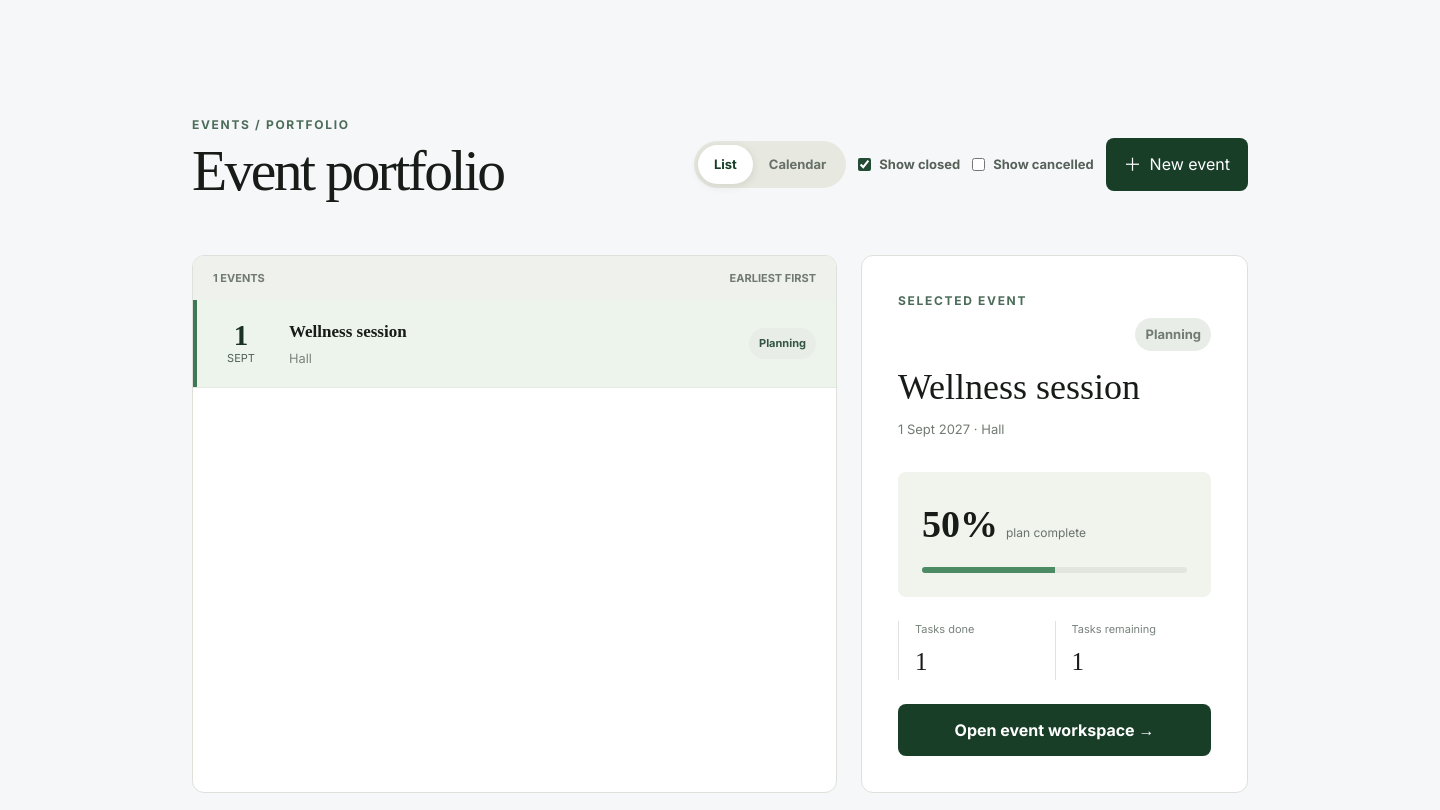
it: API-backed organizer events › shows Event and Subtask completion in the workspace
Click the button "Open event workspace →".
click(1054, 730)  # box top-left (898, 704), bottom-right (1211, 756)
(page scrolled)
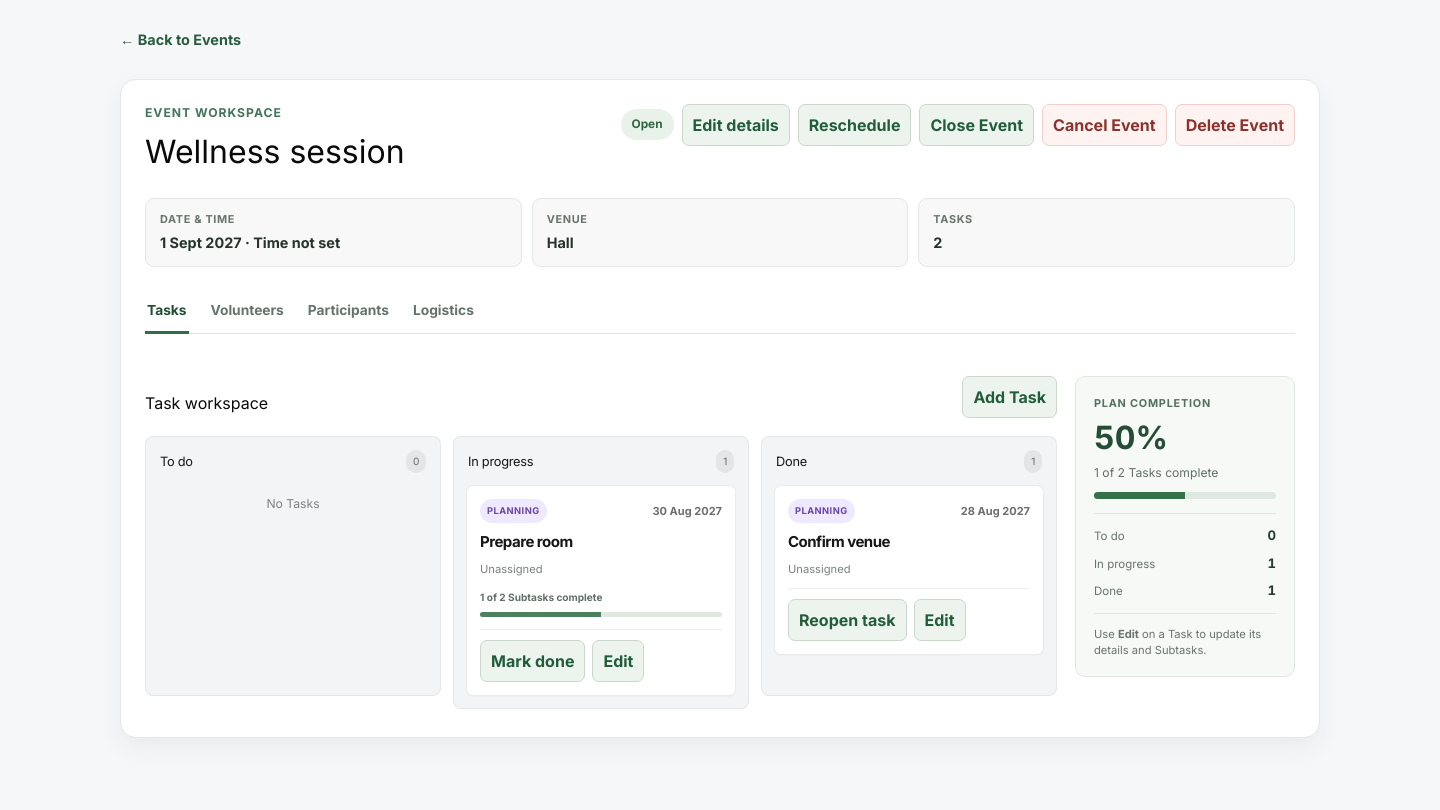
Expected: the text "1 of 2 Tasks complete" is shown, top-left (1094, 465), bottom-right (1218, 480)
Expected: the text "1 of 2 Subtasks complete" is shown, top-left (480, 591), bottom-right (602, 603)
Click the button with aria-label "Edit Prepare room".
click(618, 661)  # box top-left (592, 640), bottom-right (644, 682)
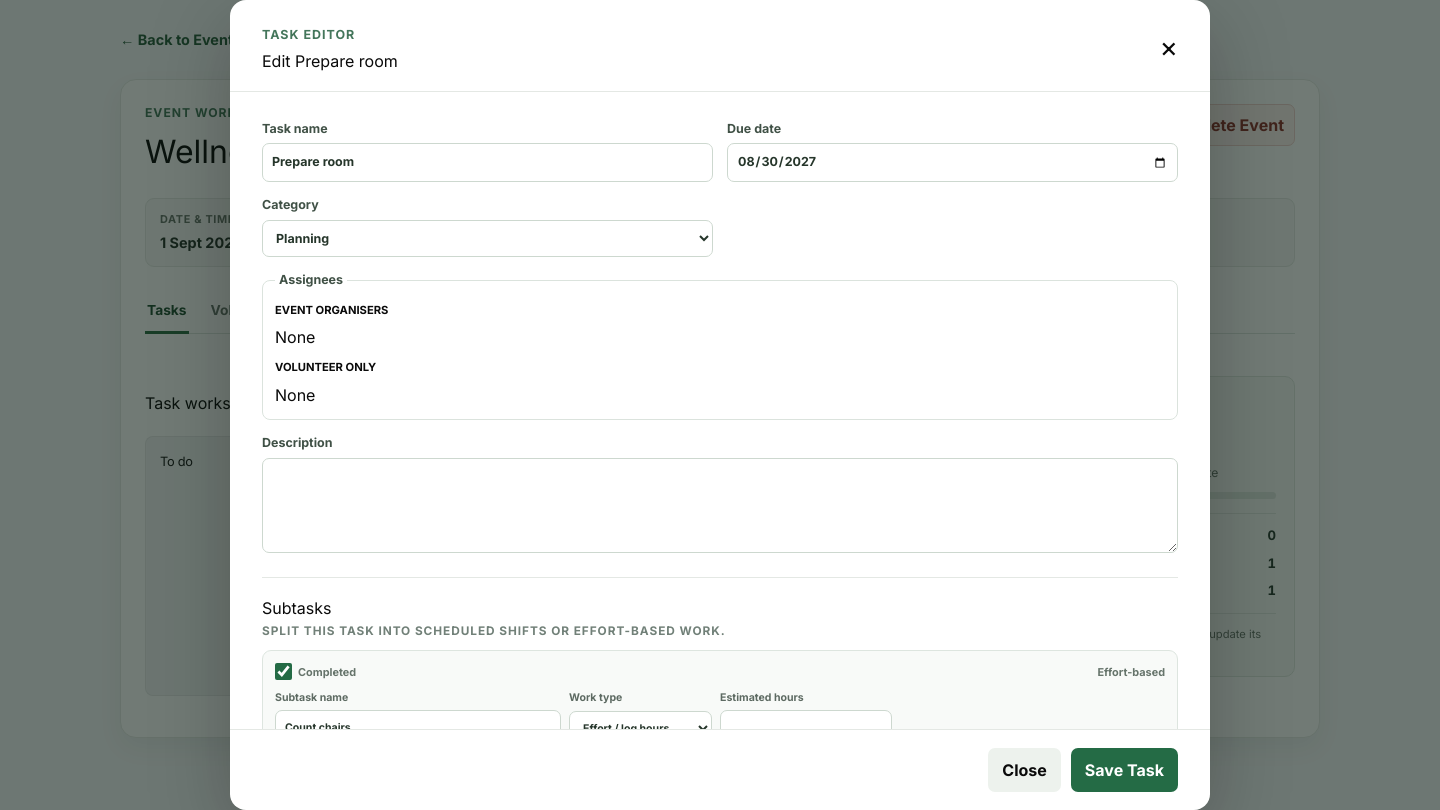
Expected: the heading "Edit Prepare room" is shown, top-left (262, 49), bottom-right (398, 73)
